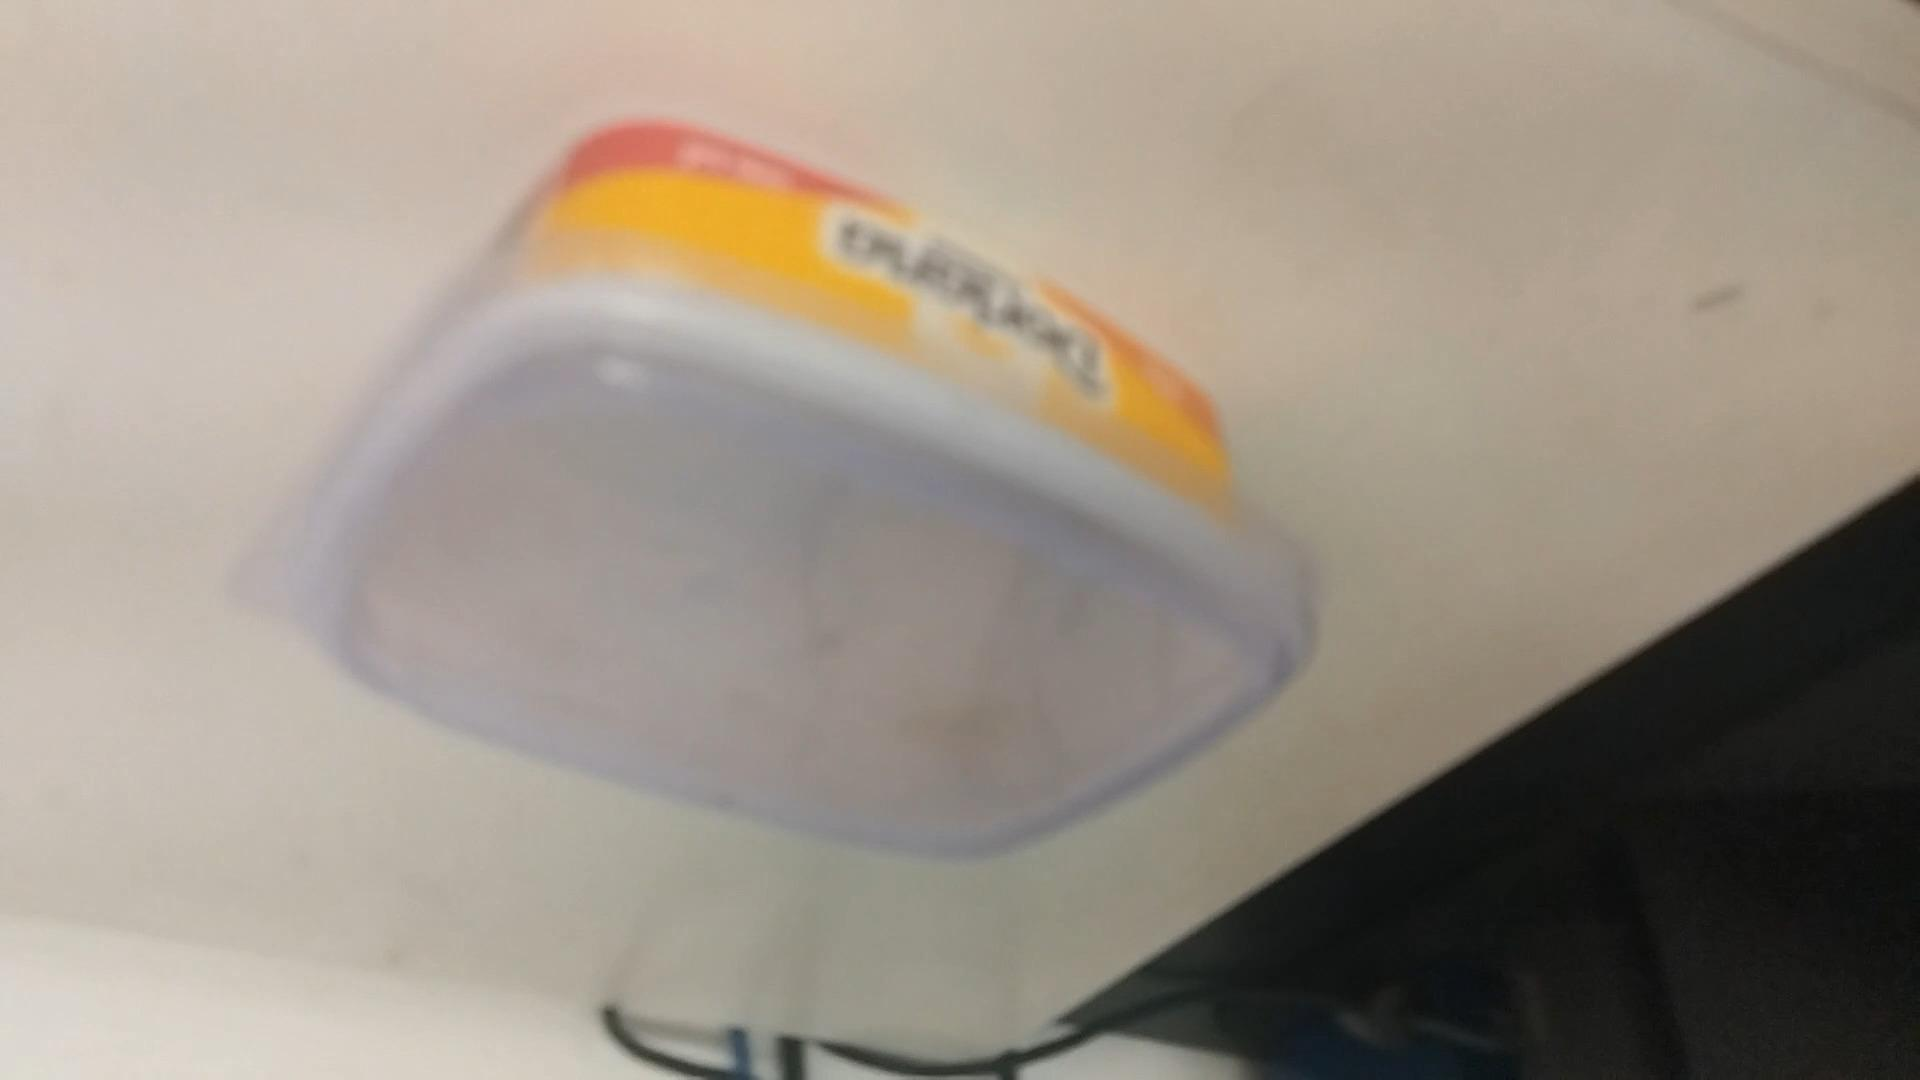butter: (232, 129, 1312, 864)
